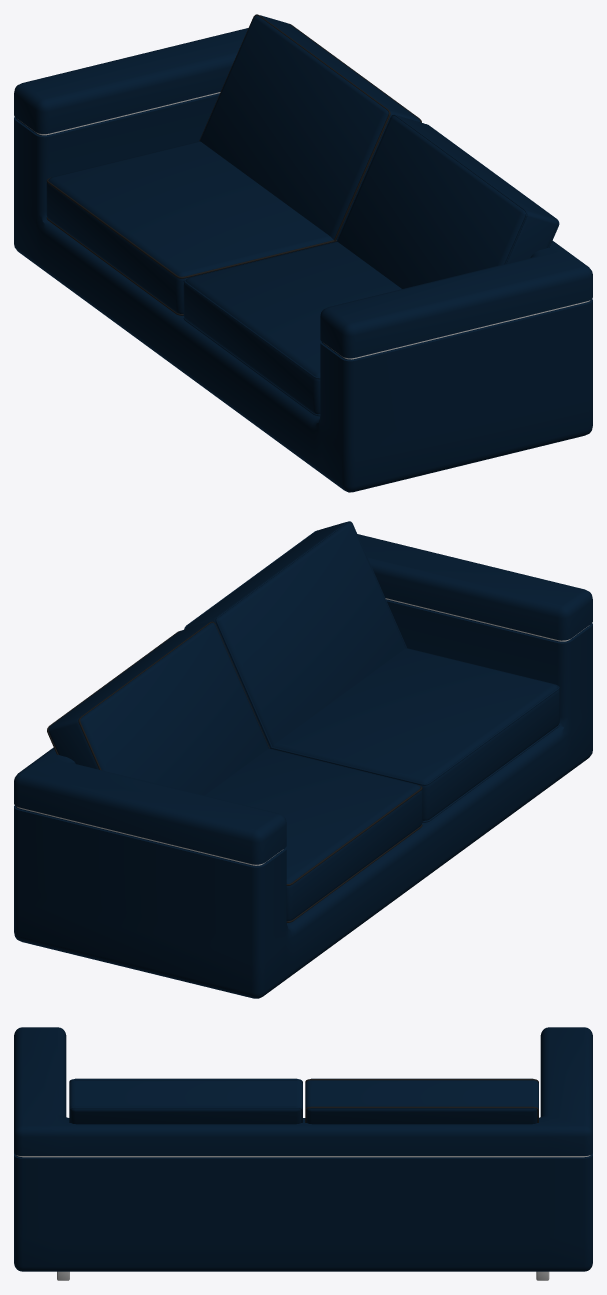
Rendered from seat1.fbx.
3 views of the same model, one above another, from view 1: azimuth 30°, elevation 25°; view 2: azimuth 150°, elevation 25°; view 3: azimuth 270°, elevation 25° (orthographic). The views are drawn at different scales.
Parts seen in each view (by area): view 1: Cube, Cube.001, Cube.007, Cube.009, Cube.005; view 2: Cube, Cube.005, Cube.009, Cube.007, Cube.001; view 3: Cube, Cube.007, Cube.009.
Boxes of the visible parts, x1,y1,x2,y2 form: Cube: (14,28,592,492); Cube.001: (46,141,336,315); Cube.007: (199,14,421,242); Cube.009: (336,114,559,288); Cube.005: (183,241,401,416); Cube: (14,534,592,998); Cube.005: (269,648,559,822); Cube.009: (184,521,406,748); Cube.007: (47,621,269,795); Cube.001: (205,748,422,922); Cube: (14,1027,592,1271); Cube.007: (305,1078,538,1124); Cube.009: (69,1078,302,1124).
Bounding box in the file's own units: 85.75 × 75.56 × 200.
